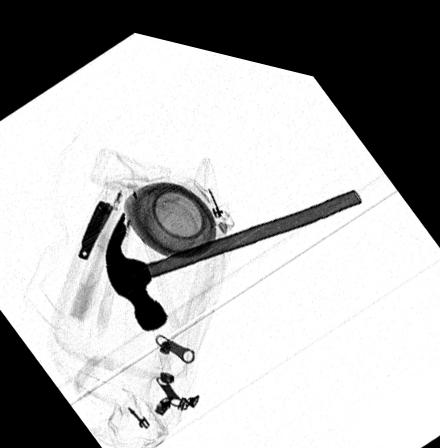Hammer: (105, 172, 364, 324)
